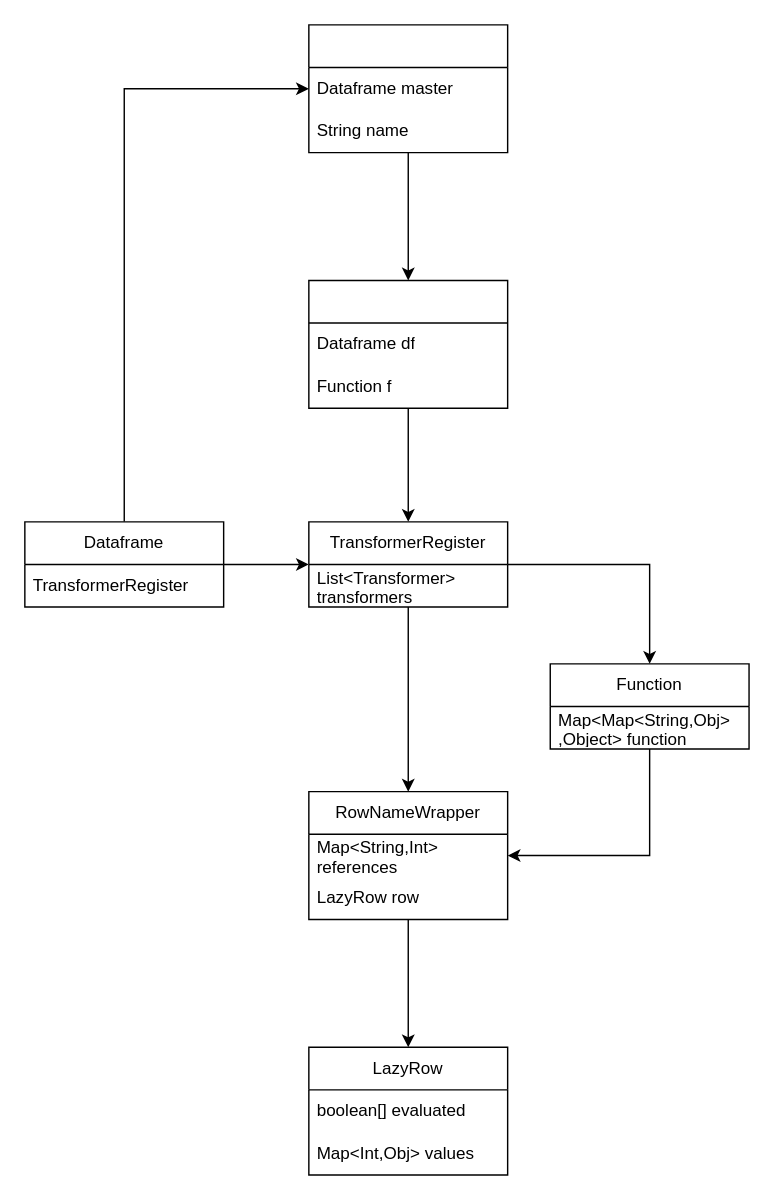
Image size: 774x1200. Some labels were removed from this diagram. The box of each missing label's shape, as (x1, y1, x2, y2) in pixels:
Column: (307, 23, 508, 153)
Transformer: (307, 279, 508, 408)
